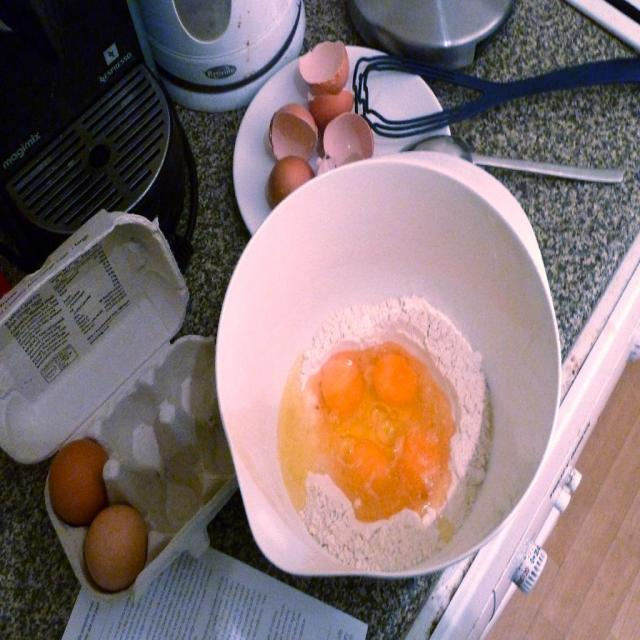Egg: (82, 506, 151, 591), (49, 443, 108, 526)
